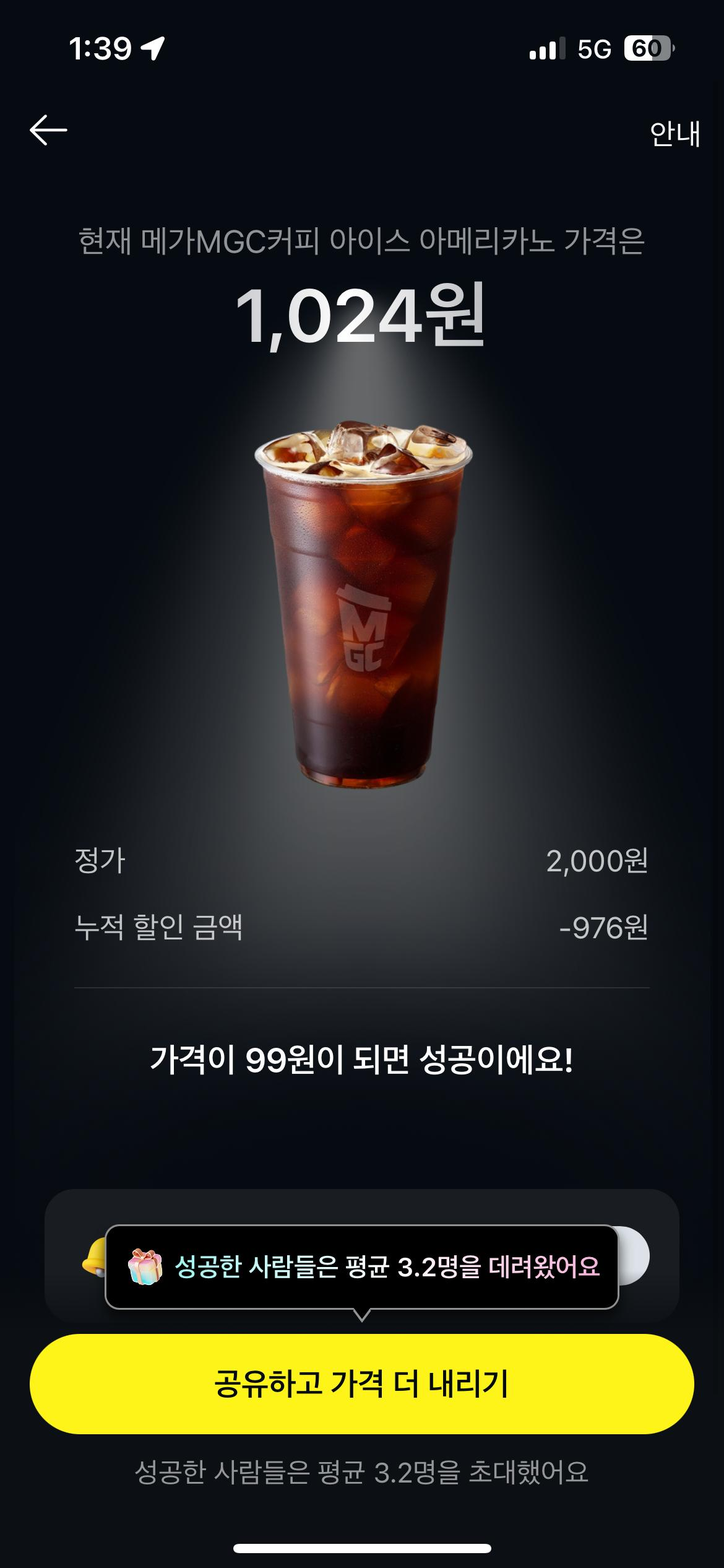button: (29, 1331, 693, 1435), (625, 111, 723, 171), (21, 111, 107, 173)
